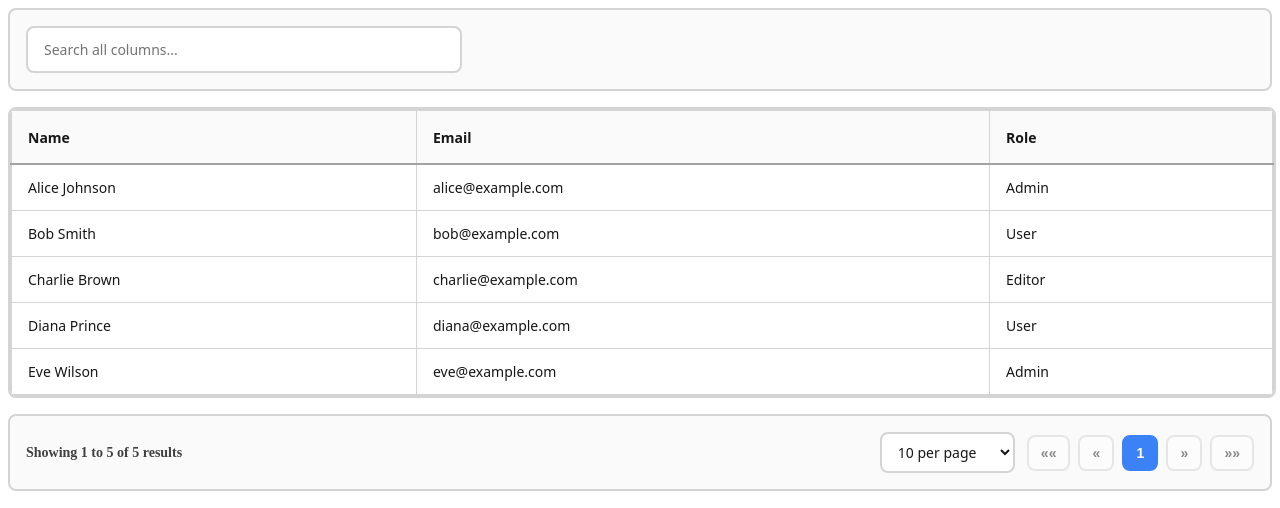
Scenario: DataTable › Filtering › filters data with global search
In the field with placeholder "Search all columns...": {"x": 244, "y": 50} [26, 26, 462, 73], type "Alice"
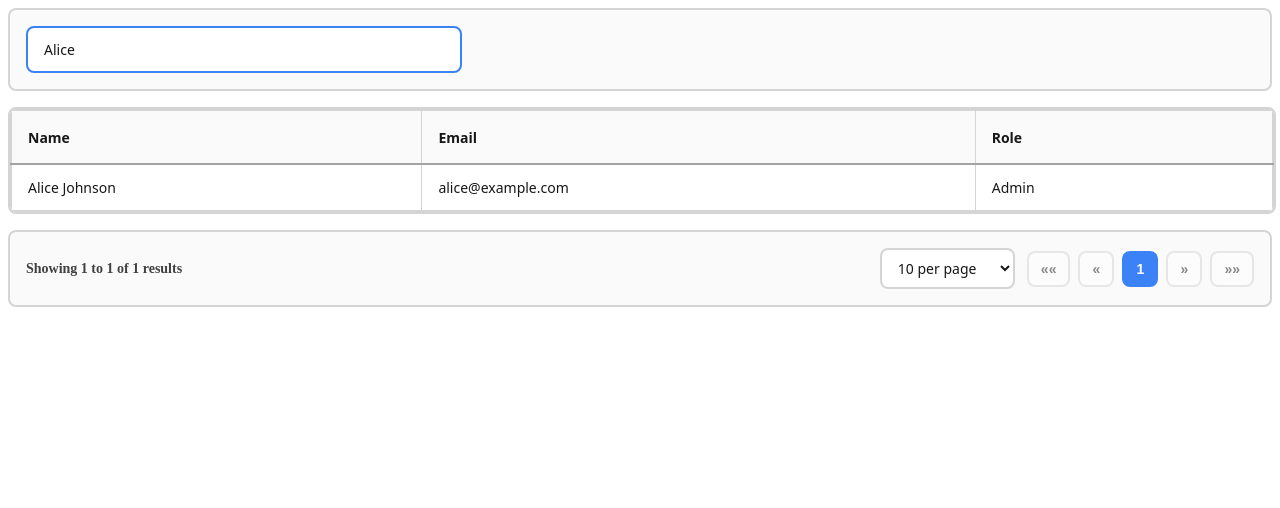
Expected: the text "Alice Johnson" is shown, [11, 164, 422, 211]
Expected: the text "Bob Smith" is gone
